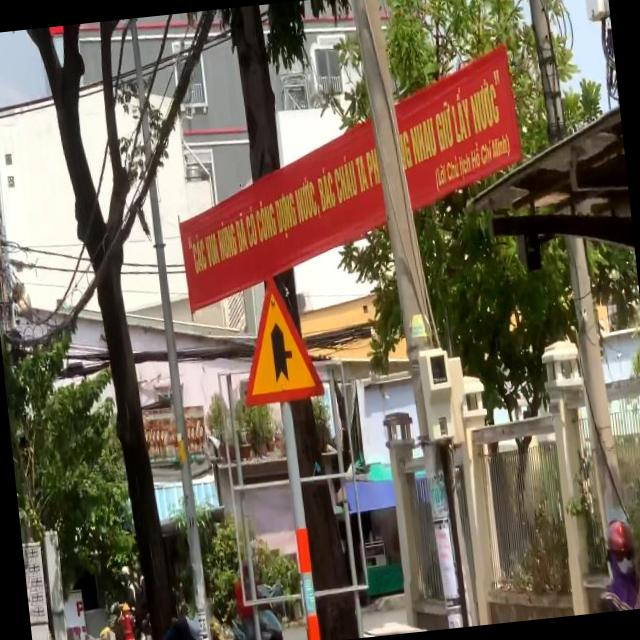W-207b: (228, 273, 322, 407)
